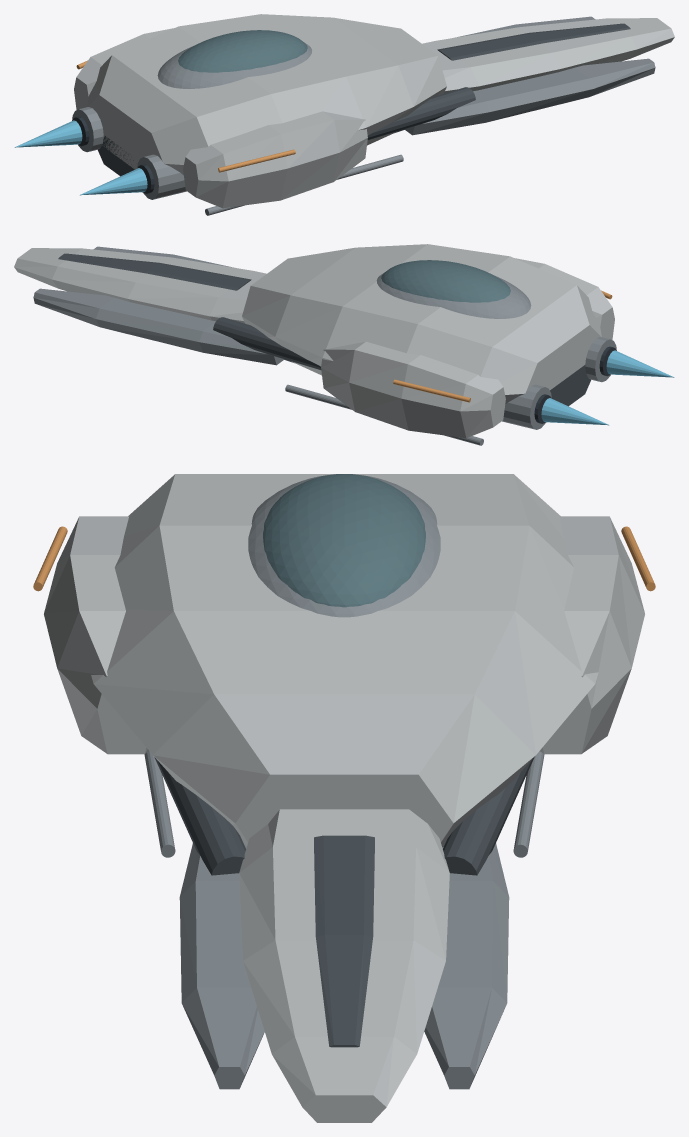
Rendered from scud_silver_flight.glb.
3 renders of one model, top to bottom at view 1: azimuth 30°, elevation 25°; view 2: azimuth 150°, elevation 25°; view 3: azimuth 270°, elevation 25°, orthographic. The views are drawn at different scales.
Visible parts, largest first — view 1: rear_core_0, rear_side_body_5, forward_body_2, forward_side_fin_7, canopy_glass_4, front_inset_15, canopy_rim_3, rear_engine_housing_9, engine_flame_12, connecting_arm_8, lower_keel_1, underside_ski_13 (+2 smaller); view 2: rear_core_0, rear_side_body_5, forward_body_2, forward_side_fin_7, canopy_glass_4, front_inset_15, canopy_rim_3, rear_engine_housing_9, engine_flame_12, connecting_arm_8, lower_keel_1, underside_ski_13 (+2 smaller); view 3: rear_core_0, forward_body_2, rear_side_body_5, forward_side_fin_7, canopy_glass_4, front_inset_15, connecting_arm_8, canopy_rim_3, underside_ski_13, side_light_6.
Part boxes in pixels (<box>): rear_core_0: <box>87,14,446,175</box>; rear_side_body_5: <box>74,28,367,208</box>; forward_body_2: <box>422,18,674,93</box>; forward_side_fin_7: <box>404,16,655,135</box>; canopy_glass_4: <box>178,30,307,72</box>; front_inset_15: <box>437,23,630,60</box>; canopy_rim_3: <box>157,42,312,88</box>; rear_engine_housing_9: <box>72,107,186,199</box>; engine_flame_12: <box>14,120,147,195</box>; connecting_arm_8: <box>367,87,475,139</box>; lower_keel_1: <box>98,129,404,192</box>; underside_ski_13: <box>205,154,403,215</box>; rear_core_0: <box>242,244,601,404</box>; rear_side_body_5: <box>321,258,614,438</box>; forward_body_2: <box>14,248,266,323</box>; forward_side_fin_7: <box>33,246,284,365</box>; canopy_glass_4: <box>381,260,510,302</box>; front_inset_15: <box>58,253,251,290</box>; canopy_rim_3: <box>376,272,531,318</box>; rear_engine_housing_9: <box>502,337,616,429</box>; engine_flame_12: <box>541,350,674,425</box>; connecting_arm_8: <box>213,317,321,369</box>; lower_keel_1: <box>284,359,590,422</box>; underside_ski_13: <box>285,384,483,445</box>; rear_core_0: <box>91,474,598,847</box>; forward_body_2: <box>239,809,449,1122</box>; rear_side_body_5: <box>44,516,644,754</box>; forward_side_fin_7: <box>179,843,509,1089</box>; canopy_glass_4: <box>263,474,425,607</box>; front_inset_15: <box>314,835,374,1047</box>; connecting_arm_8: <box>154,757,534,875</box>; canopy_rim_3: <box>248,474,440,617</box>; underside_ski_13: <box>144,751,544,857</box>; side_light_6: <box>33,526,655,591</box>.
Bounding box in the file's own units: 7.45 × 1.37 × 3.25.
